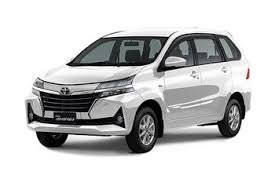mobil: (27, 26, 253, 148)
